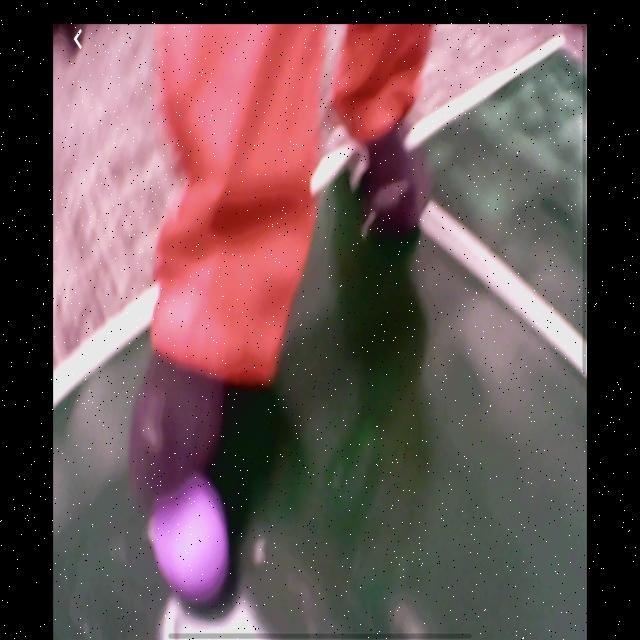ball: (147, 476, 231, 603)
